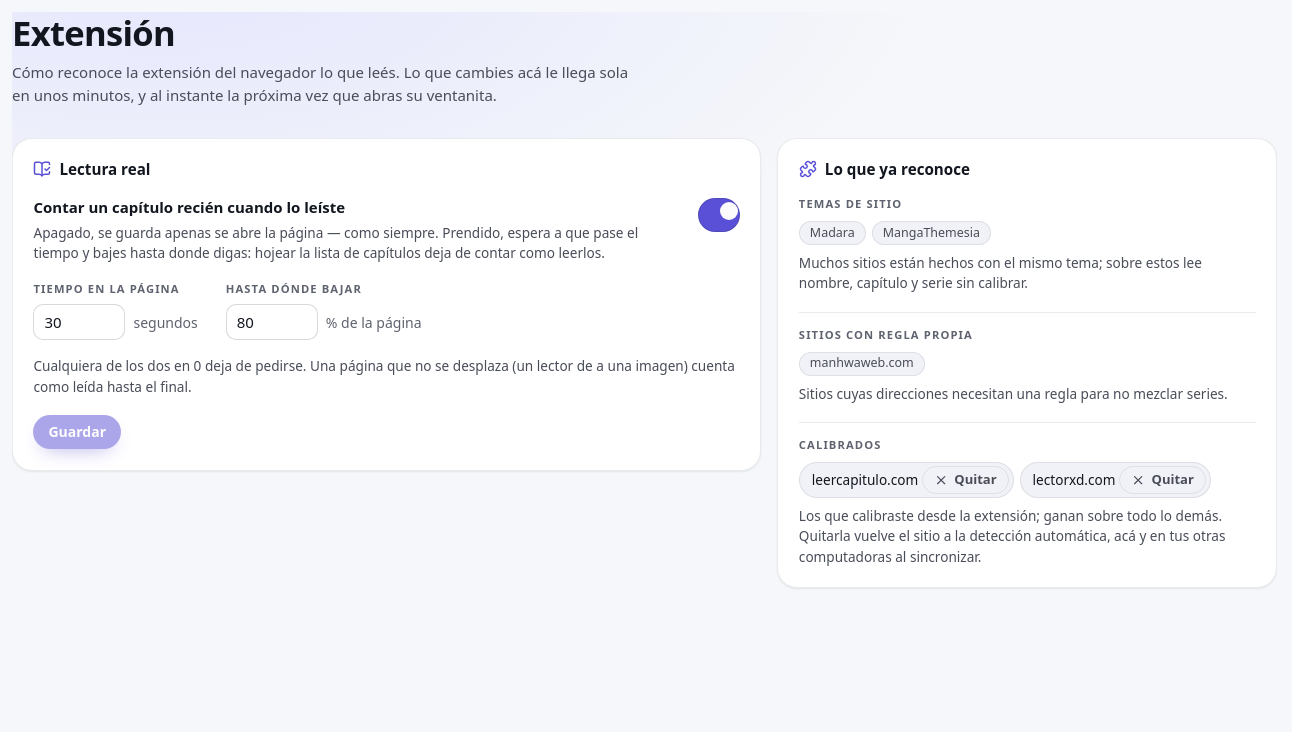
Test: ExtensionView › refuses a value no reader could mean before sending it
Replace the text in the number field labelled "Hasta dónde bajar % de la página" with "150" at (272, 322), box x1=226 y1=304 x2=318 y2=340
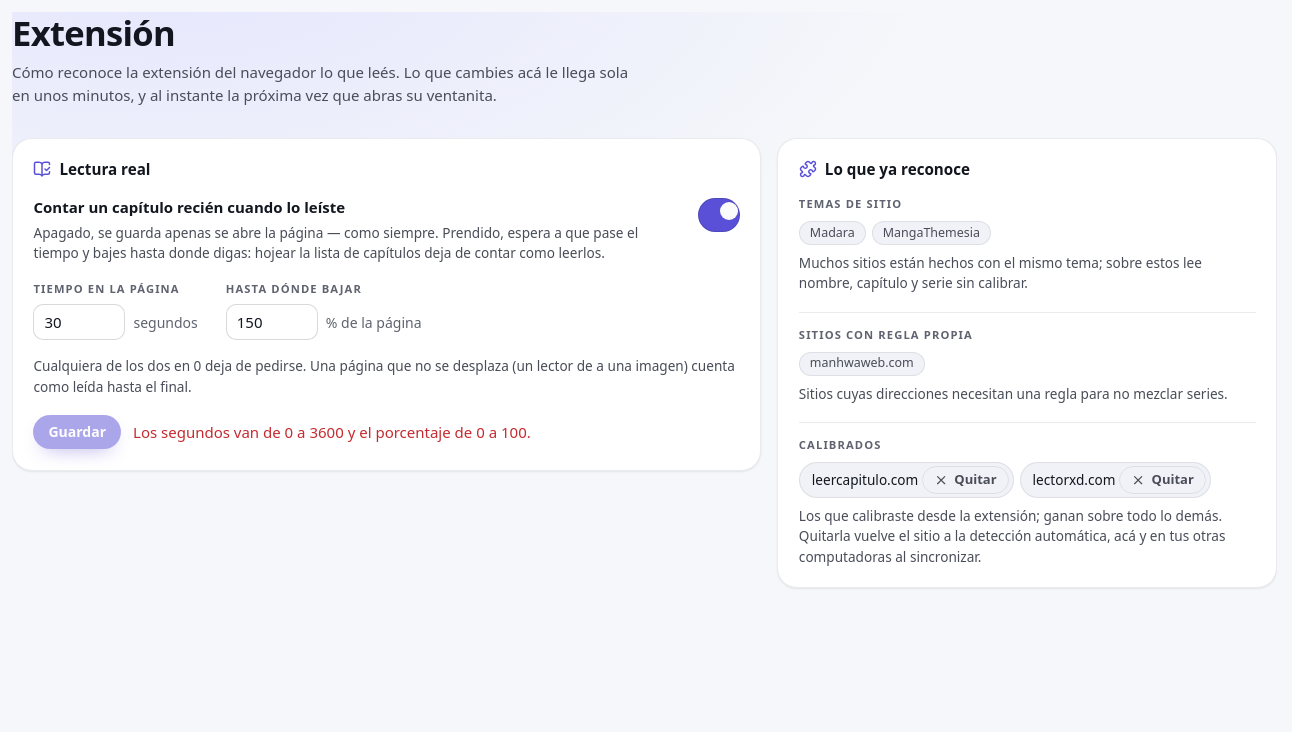
Expected: the button "Guardar" is disabled, x1=34 y1=415 x2=121 y2=449
Now the text "Los segundos van de 0 a 3600 y el porcentaje de 0 a 100." is shown, box x1=133 y1=421 x2=531 y2=443
